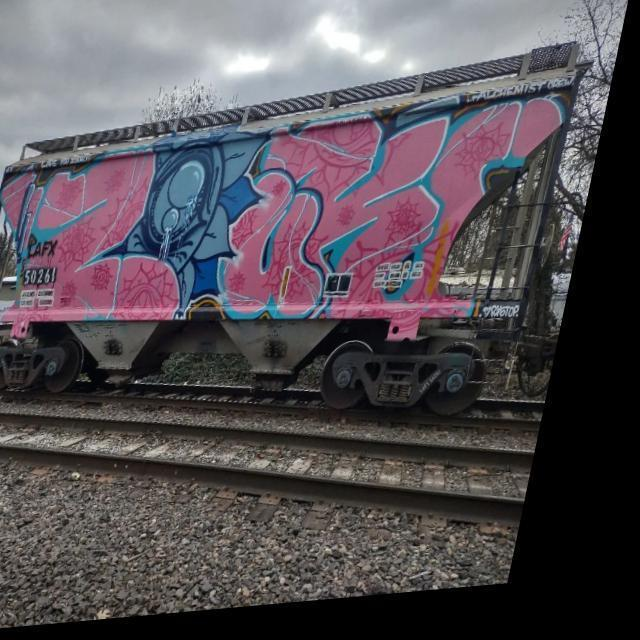nonspitting: (3, 100, 563, 324)
